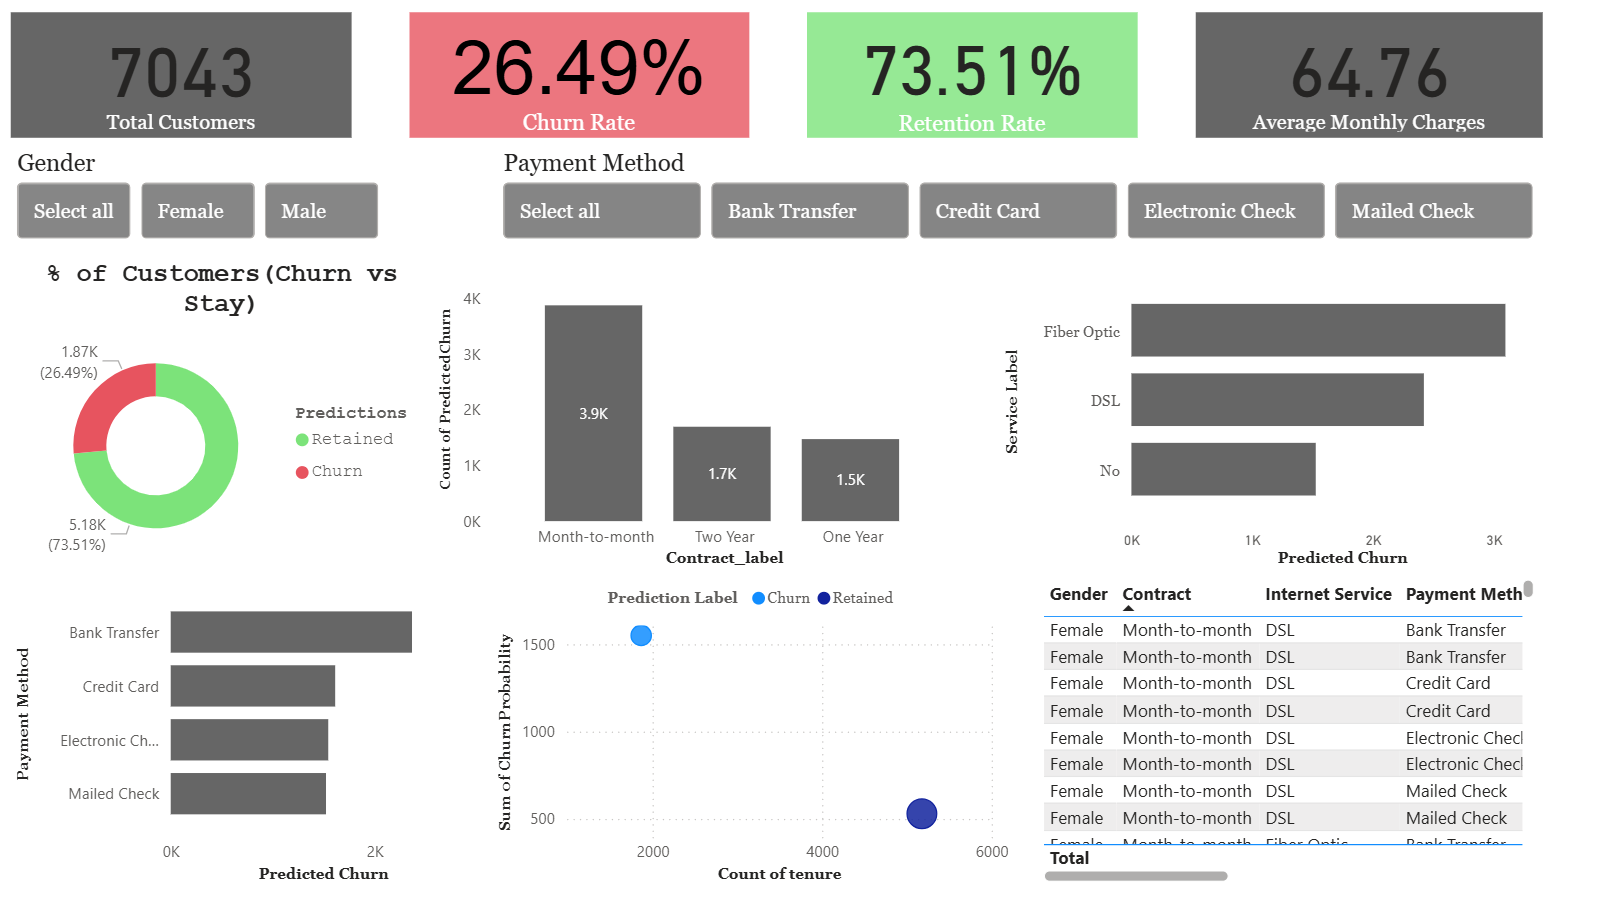

What the dashboard file says about the page in this screenshot:
{"tool":"powerbi","page":{"name":"Page 1","canvas":[1280,720],"ordinal":0},"visuals":[{"type":"card","fields":{"Values":["churn_predictions.Churn Rate"]},"box":[327.2,16.8,266.1,98.3],"z":0},{"type":"card","fields":{"Values":["churn_predictions.Retention Rate"]},"box":[638.8,16.8,258.9,98.3],"z":1},{"type":"card","fields":{"Values":["churn_predictions.Average Monthly Charges"]},"box":[943.2,16.8,272.1,98.3],"z":2},{"type":"card","fields":{"Values":["churn_predictions.Total Customers"]},"box":[14.4,16.8,267.3,98.3],"z":3},{"type":"donutChart","title":"% of Customers(Churn vs Stay)","fields":{"Y":["CountNonNull(churn_predictions.PredictedChurn)"],"Category":["Predicted_Churn_table.prediction_label "]},"box":[14.4,210.9,330.8,245.7],"z":4},{"type":"clusteredColumnChart","fields":{"Y":["CountNonNull(churn_predictions.PredictedChurn)"],"Category":["Contract_table.Contract_label "]},"box":[345.2,210.9,415.9,245.7],"z":5},{"type":"clusteredBarChart","title":"Churn by Service Label","fields":{"Category":["Internet_Service_Table.Service_Label"],"Y":["CountNonNull(churn_predictions.PredictedChurn)"]},"box":[789.8,210.9,447,245.7],"z":6},{"type":"barChart","fields":{"Y":["CountNonNull(churn_predictions.PredictedChurn)"],"Category":["Payment_Method_Table.Payment_Label"]},"box":[14.4,456.6,377.5,246.9],"z":7},{"type":"scatterChart","fields":{"X":["CountNonNull(churn_predictions.tenure)"],"Y":["Sum(churn_predictions.ChurnProbability)"],"Series":["Predicted_Churn_table.prediction_label "],"Size":["Sum(churn_predictions.MonthlyCharges)"]},"box":[391.9,456.6,409.9,246.9],"z":8},{"type":"tableEx","fields":{"Values":["Gender_Table.Gender_label","Contract_table.Contract_label ","Internet_Service_Table.Service_Label","Payment_Method_Table.Payment_Label","Sum(churn_predictions.MonthlyCharges)","Sum(churn_predictions.TotalCharges)","Sum(churn_predictions.ChurnProbability)","churn_predictions.PredictedChurn"]},"box":[818.6,456.6,395.5,246.9],"z":9},{"type":"advancedSlicerVisual","fields":{"Values":["Gender_Table.Gender_label"]},"box":[14.4,124.6,293.6,75.5],"z":10},{"type":"advancedSlicerVisual","fields":{"Values":["Payment_Method_Table.Payment_Label"]},"box":[395.5,124.6,819.8,75.5],"z":11}]}

Visuals, with their boxes in screenshot pixels (x1, y1, x2, y2), scaled from the page's 1280x720 canvas onto the 1606x900 screenshot:
card - churn_predictions.Churn Rate: pyautogui.locateOnScreen(411, 21, 744, 144)
card - churn_predictions.Retention Rate: pyautogui.locateOnScreen(801, 21, 1126, 144)
card - churn_predictions.Average Monthly Charges: pyautogui.locateOnScreen(1183, 21, 1525, 144)
card - churn_predictions.Total Customers: pyautogui.locateOnScreen(18, 21, 353, 144)
"% of Customers(Churn vs Stay)" donutChart: pyautogui.locateOnScreen(18, 264, 433, 571)
clusteredColumnChart - CountNonNull(churn_predictions.PredictedChurn) x Contract_table.Contract_label : pyautogui.locateOnScreen(433, 264, 955, 571)
"Churn by Service Label" clusteredBarChart: pyautogui.locateOnScreen(991, 264, 1552, 571)
barChart - CountNonNull(churn_predictions.PredictedChurn) x Payment_Method_Table.Payment_Label: pyautogui.locateOnScreen(18, 571, 492, 879)
scatterChart - CountNonNull(churn_predictions.tenure) x Sum(churn_predictions.ChurnProbability): pyautogui.locateOnScreen(492, 571, 1006, 879)
tableEx - Gender_Table.Gender_label x Contract_table.Contract_label : pyautogui.locateOnScreen(1027, 571, 1523, 879)
advancedSlicerVisual - Gender_Table.Gender_label: pyautogui.locateOnScreen(18, 156, 386, 250)
advancedSlicerVisual - Payment_Method_Table.Payment_Label: pyautogui.locateOnScreen(496, 156, 1525, 250)
